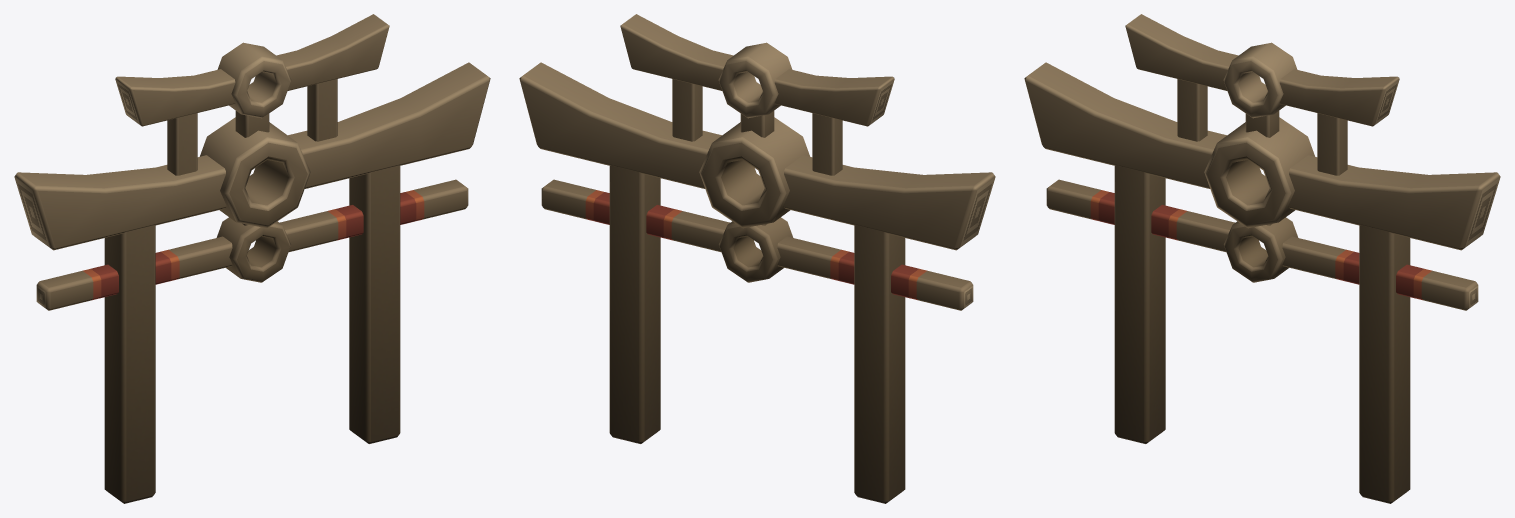
The model's file is gate_asian.fbx.
The picture shows the model from 3 angles, left to right: view 1: azimuth 30°, elevation 25°; view 2: azimuth 150°, elevation 25°; view 3: azimuth 330°, elevation 25°; orthographic projection.
Parts seen in each view (by area): view 1: gate_asian; view 2: gate_asian; view 3: gate_asian.
Part boxes in pixels (x1,y1,x2,y2): gate_asian: (14,14,490,503); gate_asian: (519,14,995,503); gate_asian: (1024,14,1500,503).
Size of the model in its own units: 655 by 567 by 79.71.
Materials: 1 (1 with a texture image).
